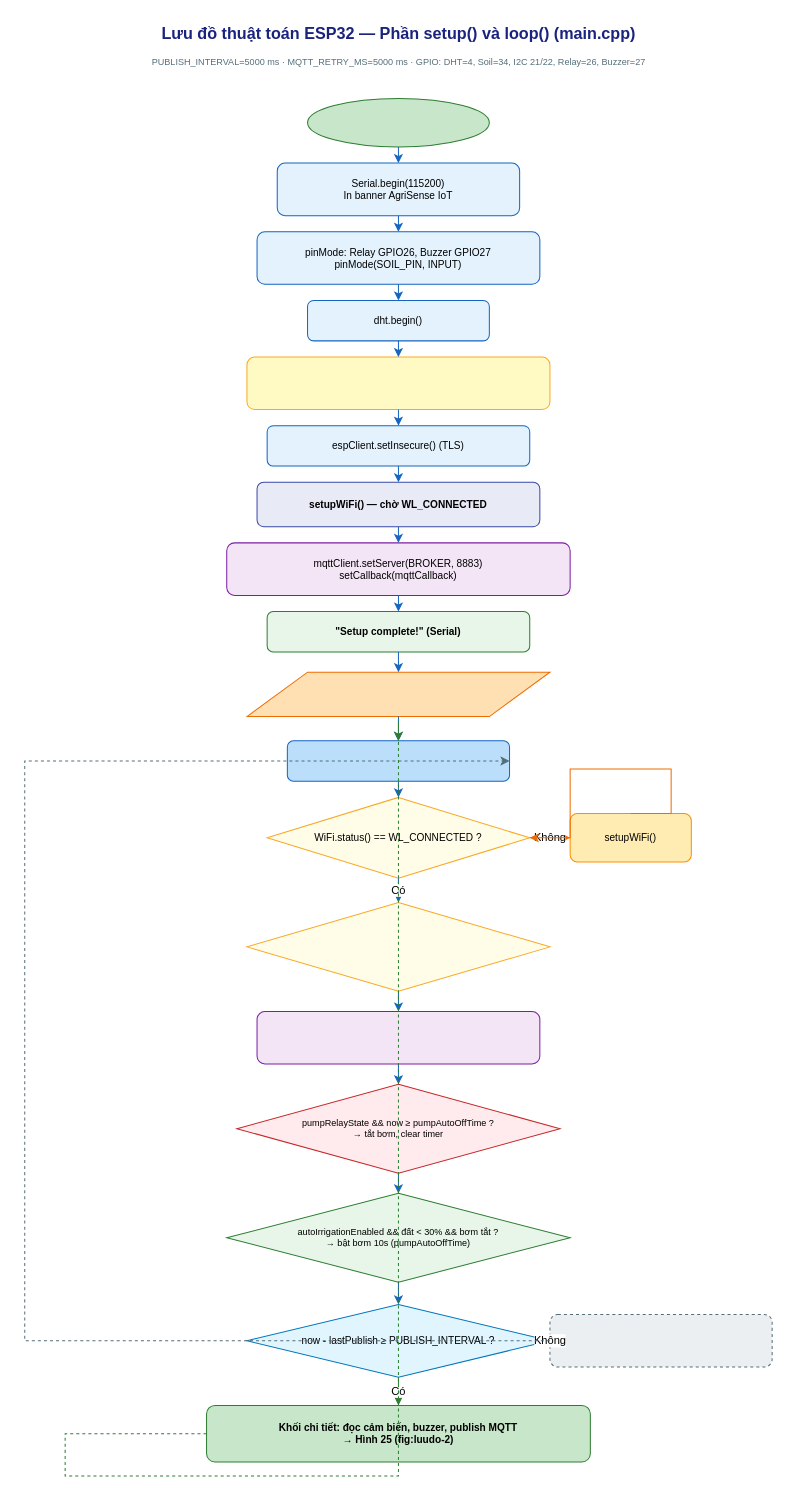
This 790x1502 diagram has some shape labels left out. The shapes that lost their labels are listed below. From the top down, each one's box as (x1, y1, x2, y2) in pixels, then its label:
(307, 97, 489, 147): Bắt đầu (reset)
(246, 356, 550, 410): initBH1750() → lightSensorOK (Wire 21/22, mode High-Res)
(246, 671, 550, 717): ▼ Vào loop() vĩnh viễn ▼
(286, 740, 510, 781): now = millis()
(246, 901, 550, 991): MQTT connected ? (hoặc đủ MQTT_RETRY_MS → reconnectMQTT)
(256, 1011, 540, 1064): mqttClient.loop() (callback nhận control/config)
(549, 1314, 772, 1367): Quay lại đầu loop (lastPublish giữ nguyên nếu chưa publish)
